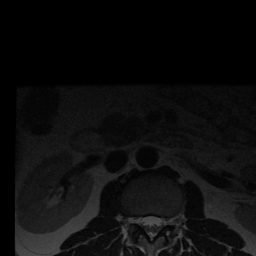CCS_normal: (147, 207, 155, 246)
LFS_normal: (164, 208, 172, 232)
LLS_normal: (155, 207, 164, 237)
RFS_normal: (132, 207, 140, 232)
RLS_normal: (140, 207, 148, 238)
